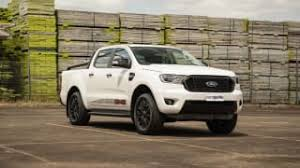Vehicle: (58, 42, 244, 138)
